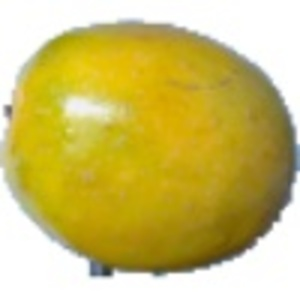maracujá: (1, 18, 300, 280)
